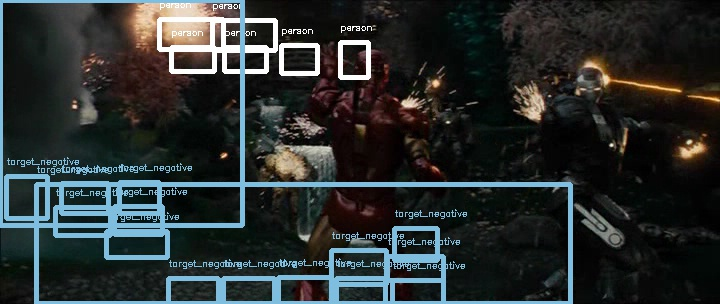person: (347, 44, 388, 91), (346, 44, 387, 91), (348, 44, 389, 91), (347, 43, 388, 90), (347, 45, 388, 92)
target_negative: (21, 15, 691, 267), (188, 129, 660, 245), (492, 198, 661, 278), (361, 234, 556, 290), (529, 62, 538, 171), (716, 67, 718, 253)
